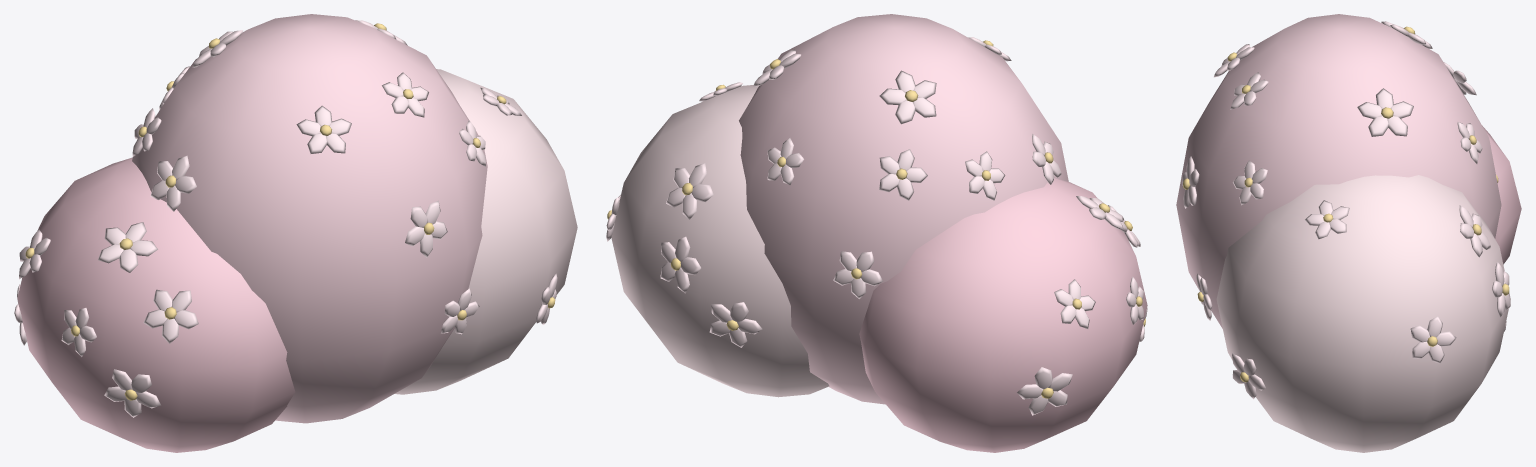
Rendered from shrub_spring.glb.
The picture shows the model from 3 angles, left to right: view 1: azimuth 30°, elevation 25°; view 2: azimuth 150°, elevation 25°; view 3: azimuth 270°, elevation 25°; orthographic projection. The views are drawn at different scales.
Size of the model in its own units: 1.77 by 1.27 by 1.11.
